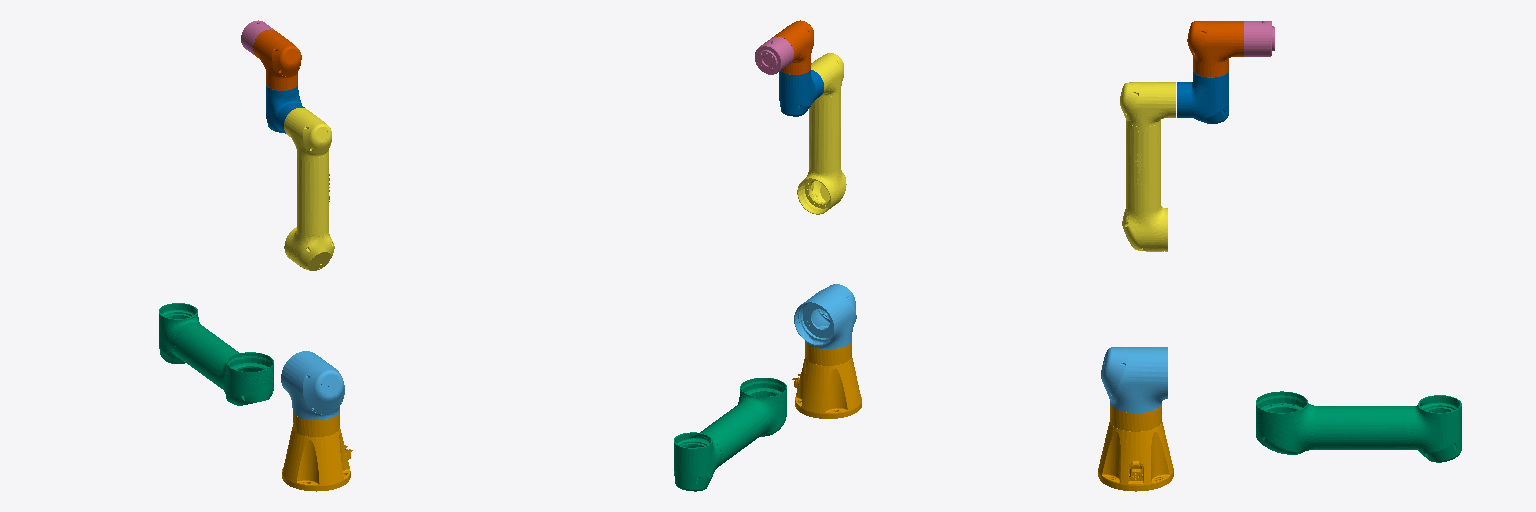
URDF robot description (chin_crb7):
<?xml version="1.0" encoding="utf-8" ?>
<!-- =================================================================================== -->
<!-- |    This document was autogenerated by xacro from [local-path]/catkin_workspace/src/chin_arm/chin_crb7_description/urdf/chin_crb7.urdf.xacro | -->
<!-- |    EDITING THIS FILE BY HAND IS NOT RECOMMENDED                                 | -->
<!-- =================================================================================== -->
<robot name="chin_crb7">
    <!--sub-link defining detailed meshes for collision with environment-->
    <link name="chin_link_0">
        <visual>
            <origin rpy="0 0 0" xyz="0 0 0" />
            <geometry>
                <mesh filename="package://chin_crb7_description/meshes/visual/link_0.dae" />
            </geometry>
        </visual>
        <collision>
            <origin rpy="0 0 0" xyz="0 0 0" />
            <geometry>
                <mesh filename="package://chin_crb7_description/meshes/collision/link_0.stl" />
            </geometry>
        </collision>
        <inertial>
            <mass value="0.1" />
            <origin xyz="0 0 0" rpy="0 0 0" />
            <inertia ixx="0.03" iyy="0.03" izz="0.03" ixy="0.0" ixz="0.0" iyz="0.0" />
        </inertial>
    </link>
    <!--sub-link defining detailed meshes for collision with environment-->
    <link name="chin_link_1">
        <visual>
            <origin rpy="0 0 0" xyz="0 0 0" />
            <geometry>
                <mesh filename="package://chin_crb7_description/meshes/visual/link_1.dae" />
            </geometry>
        </visual>
        <collision>
            <origin rpy="0 0 0" xyz="0 0 0" />
            <geometry>
                <mesh filename="package://chin_crb7_description/meshes/collision/link_1.stl" />
            </geometry>
        </collision>
        <inertial>
            <mass value="0.1" />
            <origin xyz="0 0 0" rpy="0 0 0" />
            <inertia ixx="0.03" iyy="0.03" izz="0.03" ixy="0.0" ixz="0.0" iyz="0.0" />
        </inertial>
    </link>
    <joint name="chin_joint_1" type="revolute">
        <safety_controller k_position="100.0" k_velocity="40.0" soft_lower_limit="-3.14159265359" soft_upper_limit="3.14159265359" />
        <origin rpy="0 0 0" xyz="0 0 0.2038" />
        <parent link="chin_link_0" />
        <child link="chin_link_1" />
        <axis xyz="0 0 1" />
        <limit effort="0" lower="-3.14159265359" upper="3.14159265359" velocity="0" />
        <dynamics D="1" K="7000" damping="0.003" friction="0.0" mu_coulomb="0" mu_viscous="16" />
    </joint>
    <!--sub-link defining detailed meshes for collision with environment-->
    <link name="chin_link_2">
        <visual>
            <origin rpy="0 0 0" xyz="0 0 0" />
            <geometry>
                <mesh filename="package://chin_crb7_description/meshes/visual/link_2.dae" />
            </geometry>
        </visual>
        <collision>
            <origin rpy="0 0 0" xyz="0 0 0" />
            <geometry>
                <mesh filename="package://chin_crb7_description/meshes/collision/link_2.stl" />
            </geometry>
        </collision>
        <inertial>
            <mass value="0.1" />
            <origin xyz="0 0 0" rpy="0 0 0" />
            <inertia ixx="0.03" iyy="0.03" izz="0.03" ixy="0.0" ixz="0.0" iyz="0.0" />
        </inertial>
    </link>
    <joint name="chin_joint_2" type="revolute">
        <safety_controller k_position="100.0" k_velocity="40.0" soft_lower_limit="-3.14159265359" soft_upper_limit="3.14159265359" />
        <origin rpy="-1.57079632679 0 0" xyz="0 0.082 0.081" />
        <parent link="chin_link_1" />
        <child link="chin_link_2" />
        <axis xyz="0 0 1" />
        <limit effort="0" lower="-3.14159265359" upper="3.14159265359" velocity="0" />
        <dynamics D="1" K="7000" damping="0.003" friction="0.0" mu_coulomb="0" mu_viscous="16" />
    </joint>
    <!--sub-link defining detailed meshes for collision with environment-->
    <link name="chin_link_3">
        <visual>
            <origin rpy="0 0 0" xyz="0 0 0" />
            <geometry>
                <mesh filename="package://chin_crb7_description/meshes/visual/link_3.dae" />
            </geometry>
        </visual>
        <collision>
            <origin rpy="0 0 0" xyz="0 0 0" />
            <geometry>
                <mesh filename="package://chin_crb7_description/meshes/collision/link_3.stl" />
            </geometry>
        </collision>
        <inertial>
            <mass value="0.1" />
            <origin xyz="0 0 0" rpy="0 0 0" />
            <inertia ixx="0.03" iyy="0.03" izz="0.03" ixy="0.0" ixz="0.0" iyz="0.0" />
        </inertial>
    </link>
    <joint name="chin_joint_3" type="revolute">
        <safety_controller k_position="100.0" k_velocity="40.0" soft_lower_limit="-2.79252680319" soft_upper_limit="2.79252680319" />
        <origin rpy="3.14159265359 0 0" xyz="0 -0.398 0" />
        <parent link="chin_link_2" />
        <child link="chin_link_3" />
        <axis xyz="0 0 1" />
        <limit effort="0" lower="-2.79252680319" upper="2.79252680319" velocity="0" />
        <dynamics D="1" K="7000" damping="0.003" friction="0.0" mu_coulomb="0" mu_viscous="16" />
    </joint>
    <!--sub-link defining detailed meshes for collision with environment-->
    <link name="chin_link_4">
        <visual>
            <origin rpy="0 0 0" xyz="0 0 0" />
            <geometry>
                <mesh filename="package://chin_crb7_description/meshes/visual/link_4.dae" />
            </geometry>
        </visual>
        <collision>
            <origin rpy="0 0 0" xyz="0 0 0" />
            <geometry>
                <mesh filename="package://chin_crb7_description/meshes/collision/link_4.stl" />
            </geometry>
        </collision>
        <inertial>
            <mass value="0.1" />
            <origin xyz="0 0 0" rpy="0 0 0" />
            <inertia ixx="0.03" iyy="0.03" izz="0.03" ixy="0.0" ixz="0.0" iyz="0.0" />
        </inertial>
    </link>
    <joint name="chin_joint_4" type="revolute">
        <safety_controller k_position="100.0" k_velocity="40.0" soft_lower_limit="-3.14159265359" soft_upper_limit="3.14159265359" />
        <origin rpy="3.14159265359 0 0" xyz="0 0.36 -0.02" />
        <parent link="chin_link_3" />
        <child link="chin_link_4" />
        <axis xyz="0 0 1" />
        <limit effort="0" lower="-3.14159265359" upper="3.14159265359" velocity="0" />
        <dynamics D="1" K="7000" damping="0.003" friction="0.0" mu_coulomb="0" mu_viscous="16" />
    </joint>
    <!--sub-link defining detailed meshes for collision with environment-->
    <link name="chin_link_5">
        <visual>
            <origin rpy="0 0 0" xyz="0 0 0" />
            <geometry>
                <mesh filename="package://chin_crb7_description/meshes/visual/link_5.dae" />
            </geometry>
        </visual>
        <collision>
            <origin rpy="0 0 0" xyz="0 0 0" />
            <geometry>
                <mesh filename="package://chin_crb7_description/meshes/collision/link_5.stl" />
            </geometry>
        </collision>
        <inertial>
            <mass value="0.1" />
            <origin xyz="0 0 0" rpy="0 0 0" />
            <inertia ixx="0.03" iyy="0.03" izz="0.03" ixy="0.0" ixz="0.0" iyz="0.0" />
        </inertial>
    </link>
    <joint name="chin_joint_5" type="revolute">
        <safety_controller k_position="100.0" k_velocity="40.0" soft_lower_limit="-3.14159265359" soft_upper_limit="3.14159265359" />
        <origin rpy="1.57079632679 0 0" xyz="0 -0.083 0.087" />
        <parent link="chin_link_4" />
        <child link="chin_link_5" />
        <axis xyz="0 0 1" />
        <limit effort="0" lower="-3.14159265359" upper="3.14159265359" velocity="0" />
        <dynamics D="1" K="7000" damping="0.003" friction="0.0" mu_coulomb="0" mu_viscous="16" />
    </joint>
    <!--sub-link defining detailed meshes for collision with environment-->
    <link name="chin_link_6">
        <visual>
            <origin rpy="0 0 0" xyz="0 0 0" />
            <geometry>
                <mesh filename="package://chin_crb7_description/meshes/visual/link_6.dae" />
            </geometry>
        </visual>
        <collision>
            <origin rpy="0 0 0" xyz="0 0 0" />
            <geometry>
                <mesh filename="package://chin_crb7_description/meshes/collision/link_6.stl" />
            </geometry>
        </collision>
        <inertial>
            <mass value="0.1" />
            <origin xyz="0 0 0" rpy="0 0 0" />
            <inertia ixx="0.03" iyy="0.03" izz="0.03" ixy="0.0" ixz="0.0" iyz="0.0" />
        </inertial>
    </link>
    <joint name="chin_joint_6" type="revolute">
        <safety_controller k_position="100.0" k_velocity="40.0" soft_lower_limit="-3.14159265359" soft_upper_limit="3.14159265359" />
        <origin rpy="-1.57079632679 0 0" xyz="0 0.083 0.087" />
        <parent link="chin_link_5" />
        <child link="chin_link_6" />
        <axis xyz="0 0 1" />
        <limit effort="0" lower="-3.14159265359" upper="3.14159265359" velocity="0" />
        <dynamics D="1" K="7000" damping="0.003" friction="0.0" mu_coulomb="0" mu_viscous="16" />
    </joint>
    <!--link7 to link6-->
    <link name="chin_link_tcp" />
    <joint name="chin_joint_tcp" type="fixed">
        <origin rpy="3.14159265359 0 -1.57079632679" xyz="0 0 0.077" />
        <parent link="chin_link_6" />
        <child link="chin_link_tcp" />
    </joint>
    <transmission name="trans_chin_joint_1">
        <type>transmission_interface/SimpleTransmission</type>
        <joint name="chin_joint_1">
            <hardwareInterface>hardware_interface/PositionJointInterface</hardwareInterface>
        </joint>
        <actuator name="chin_joint_1_motor">
            <hardwareInterface>hardware_interface/PositionJointInterface</hardwareInterface>
            <mechanicalReduction>1</mechanicalReduction>
        </actuator>
    </transmission>
    <transmission name="trans_chin_joint_2">
        <type>transmission_interface/SimpleTransmission</type>
        <joint name="chin_joint_2">
            <hardwareInterface>hardware_interface/PositionJointInterface</hardwareInterface>
        </joint>
        <actuator name="chin_joint_2_motor">
            <hardwareInterface>hardware_interface/PositionJointInterface</hardwareInterface>
            <mechanicalReduction>1</mechanicalReduction>
        </actuator>
    </transmission>
    <transmission name="trans_chin_joint_3">
        <type>transmission_interface/SimpleTransmission</type>
        <joint name="chin_joint_3">
            <hardwareInterface>hardware_interface/PositionJointInterface</hardwareInterface>
        </joint>
        <actuator name="chin_joint_3_motor">
            <hardwareInterface>hardware_interface/PositionJointInterface</hardwareInterface>
            <mechanicalReduction>1</mechanicalReduction>
        </actuator>
    </transmission>
    <transmission name="trans_chin_joint_4">
        <type>transmission_interface/SimpleTransmission</type>
        <joint name="chin_joint_4">
            <hardwareInterface>hardware_interface/PositionJointInterface</hardwareInterface>
        </joint>
        <actuator name="chin_joint_4_motor">
            <hardwareInterface>hardware_interface/PositionJointInterface</hardwareInterface>
            <mechanicalReduction>1</mechanicalReduction>
        </actuator>
    </transmission>
    <transmission name="trans_chin_joint_5">
        <type>transmission_interface/SimpleTransmission</type>
        <joint name="chin_joint_5">
            <hardwareInterface>hardware_interface/PositionJointInterface</hardwareInterface>
        </joint>
        <actuator name="chin_joint_5_motor">
            <hardwareInterface>hardware_interface/PositionJointInterface</hardwareInterface>
            <mechanicalReduction>1</mechanicalReduction>
        </actuator>
    </transmission>
    <transmission name="trans_chin_joint_6">
        <type>transmission_interface/SimpleTransmission</type>
        <joint name="chin_joint_6">
            <hardwareInterface>hardware_interface/PositionJointInterface</hardwareInterface>
        </joint>
        <actuator name="chin_joint_6_motor">
            <hardwareInterface>hardware_interface/PositionJointInterface</hardwareInterface>
            <mechanicalReduction>1</mechanicalReduction>
        </actuator>
    </transmission>
    <gazebo>
        <plugin name="gazebo_ros_control">
            <robotNamespace>/</robotNamespace>
        </plugin>
    </gazebo>
</robot>

--- Facts derived from the render (not from the file) ---
The picture shows the robot from 3 angles, left to right: view 1: azimuth 30°, elevation 25°; view 2: azimuth 150°, elevation 25°; view 3: azimuth 270°, elevation 25°; orthographic projection.
Model chin_crb7 with 8 links and 7 joints (6 revolute, 1 fixed), rooted at chin_link_0, posed all joints at 0.
Visible links, largest first — view 1: chin_link_2, chin_link_3, chin_link_0, chin_link_1, chin_link_5, chin_link_4; view 2: chin_link_2, chin_link_3, chin_link_0, chin_link_1, chin_link_4, chin_link_5, chin_link_6; view 3: chin_link_2, chin_link_3, chin_link_0, chin_link_1, chin_link_5, chin_link_4, chin_link_6.
Boxes of the visible links, x1,y1,x2,y2 form: chin_link_2: (159,303,273,405); chin_link_3: (284,108,334,270); chin_link_0: (282,413,352,491); chin_link_1: (281,351,344,419); chin_link_5: (253,30,301,90); chin_link_4: (266,85,304,133); chin_link_2: (674,378,786,491); chin_link_3: (797,53,846,214); chin_link_0: (792,341,861,418); chin_link_1: (794,284,856,348); chin_link_4: (779,70,823,116); chin_link_5: (772,20,813,74); chin_link_6: (755,37,793,74); chin_link_2: (1256,391,1461,462); chin_link_3: (1120,82,1175,251); chin_link_0: (1098,405,1173,491); chin_link_1: (1101,347,1167,412); chin_link_5: (1187,21,1243,77); chin_link_4: (1177,71,1228,123); chin_link_6: (1244,21,1274,56).
Size in the robot's own frame: 0.2048 by 0.915 by 1.26 metres.
7 mesh visuals loaded from 7 distinct referenced files (7 Collada DAE).
